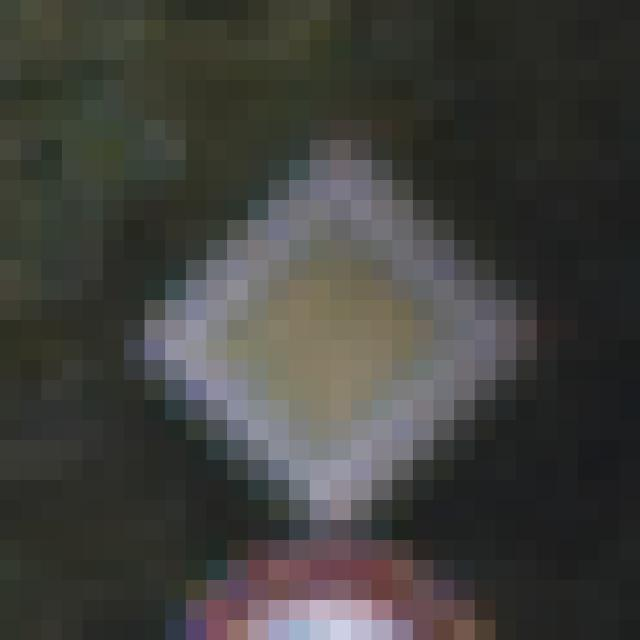Main Road: (125, 121, 538, 541)
